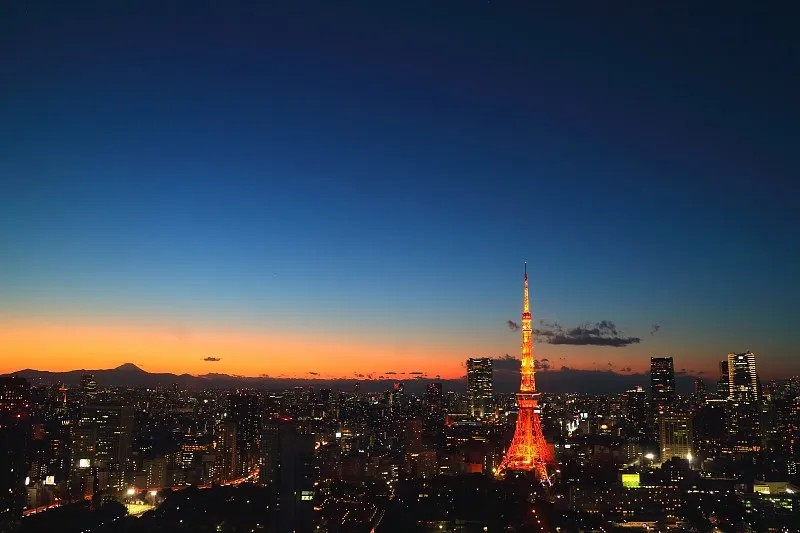Tokyo: (492, 259, 559, 481)
